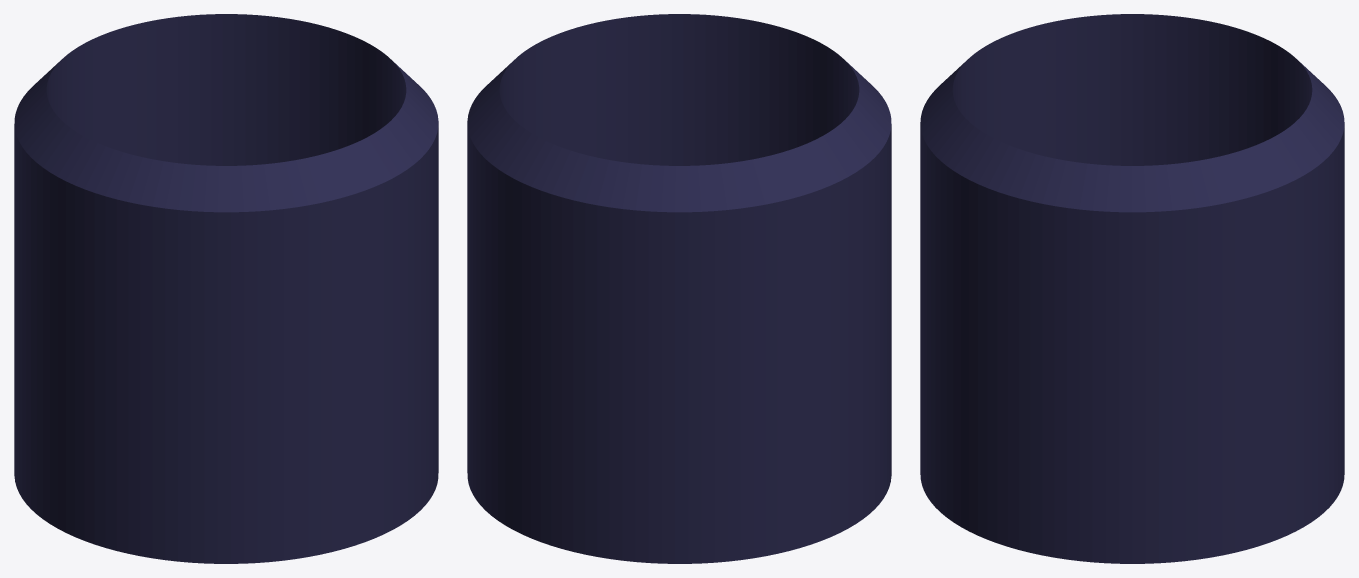
File: olla.fbx
3 renders of one model, left to right at view 1: azimuth 30°, elevation 25°; view 2: azimuth 150°, elevation 25°; view 3: azimuth 270°, elevation 25°, orthographic.
Visible parts, largest first — view 1: Cylinder; view 2: Cylinder; view 3: Cylinder.
Part boxes in pixels (x1,y1,x2,y2): Cylinder: [14, 14, 438, 563]; Cylinder: [467, 14, 891, 563]; Cylinder: [920, 14, 1344, 563].
Bounding box in the file's own units: 200 × 200 × 200.
